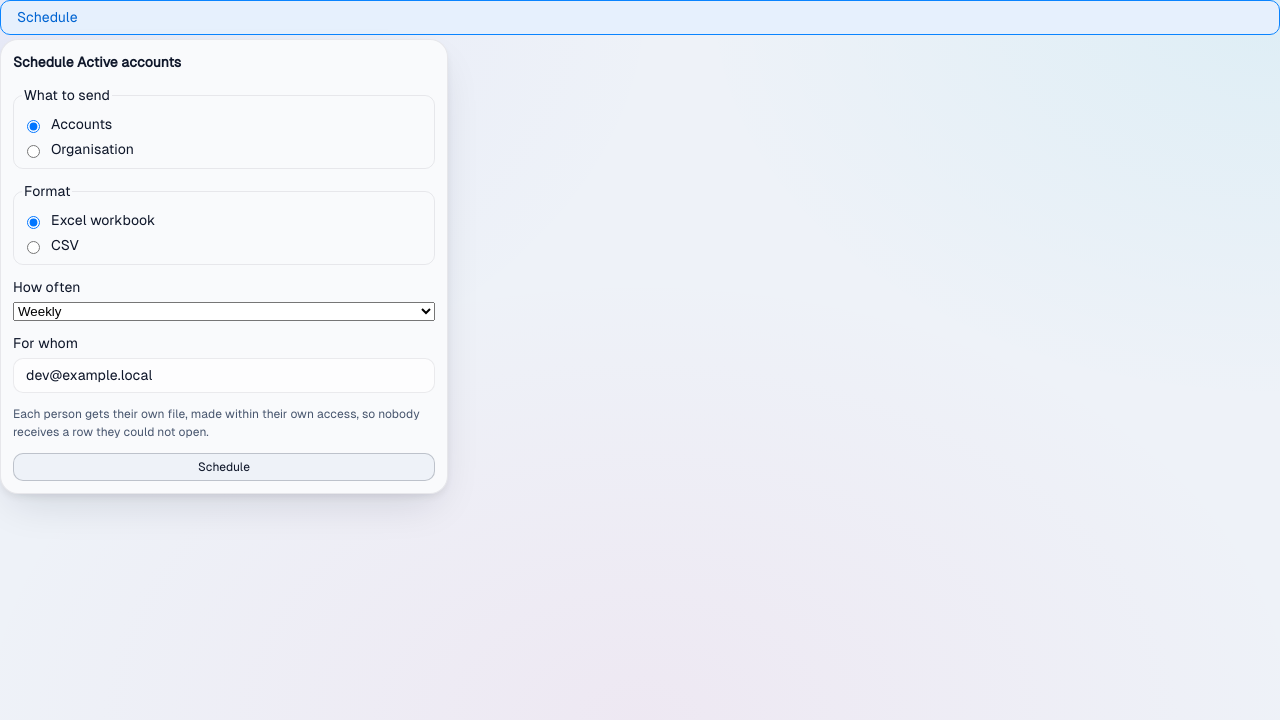
Test: Schedule › schedules the chosen route, format and cadence for the people named
Expected: the field with test id "schedule-view-recipients" holds "dev@example.local", left=13, top=358, right=435, bottom=393
Click the radio button with test id "schedule-view-route" showing "Organisation" at [34, 151], box left=27, top=144, right=40, bottom=158
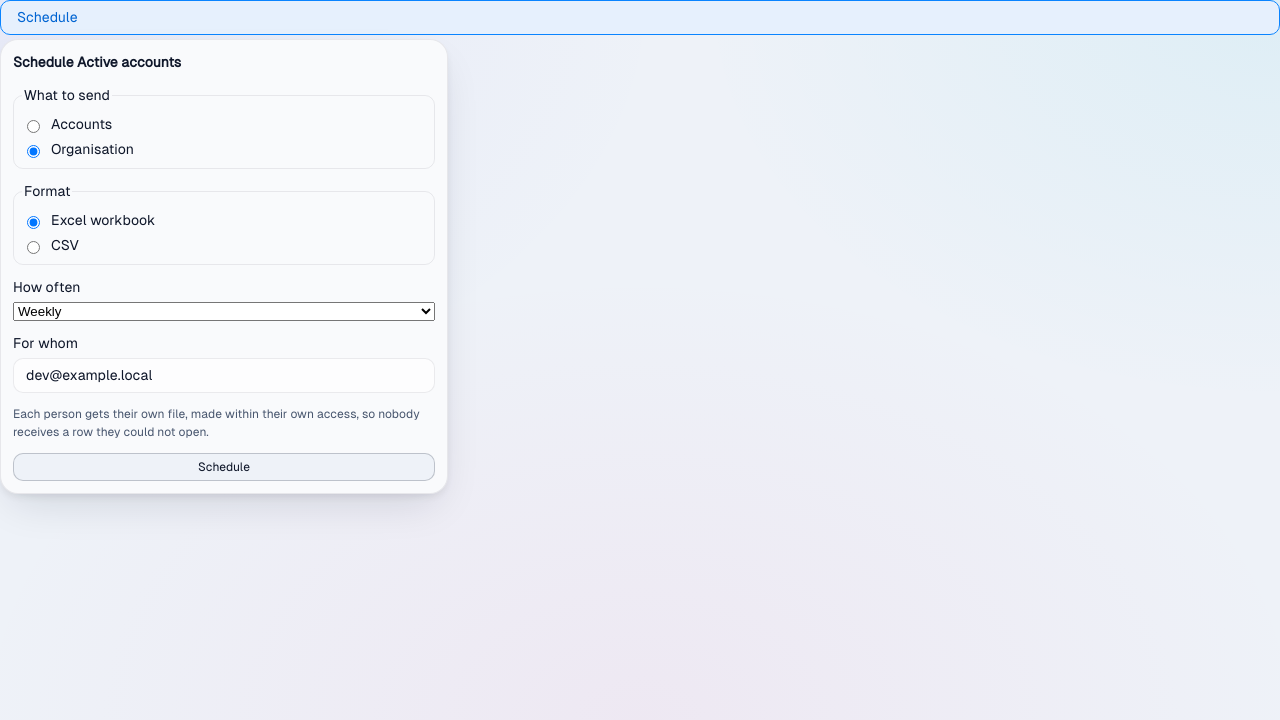
Click the radio button with test id "schedule-view-format-csv" at [34, 247], box left=27, top=240, right=40, bottom=254
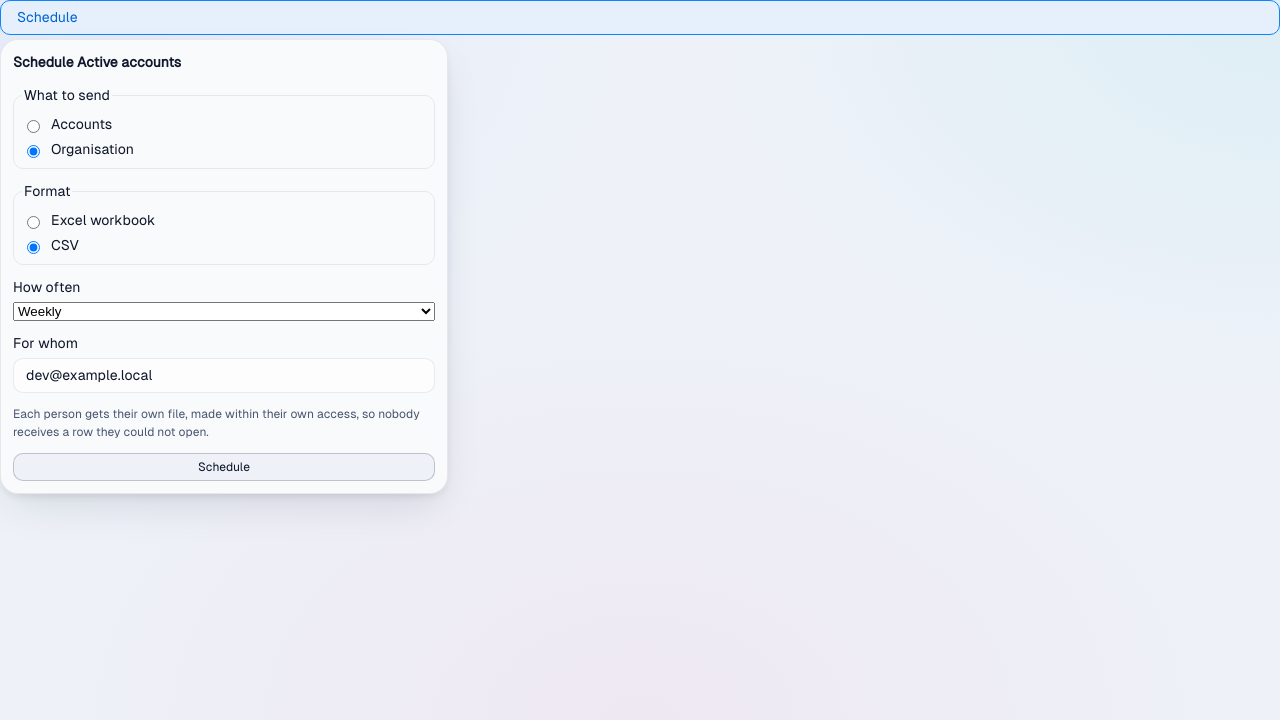
Select "When the month closes" in the dropdown with test id "schedule-view-cadence" at [224, 312], box left=13, top=302, right=435, bottom=321
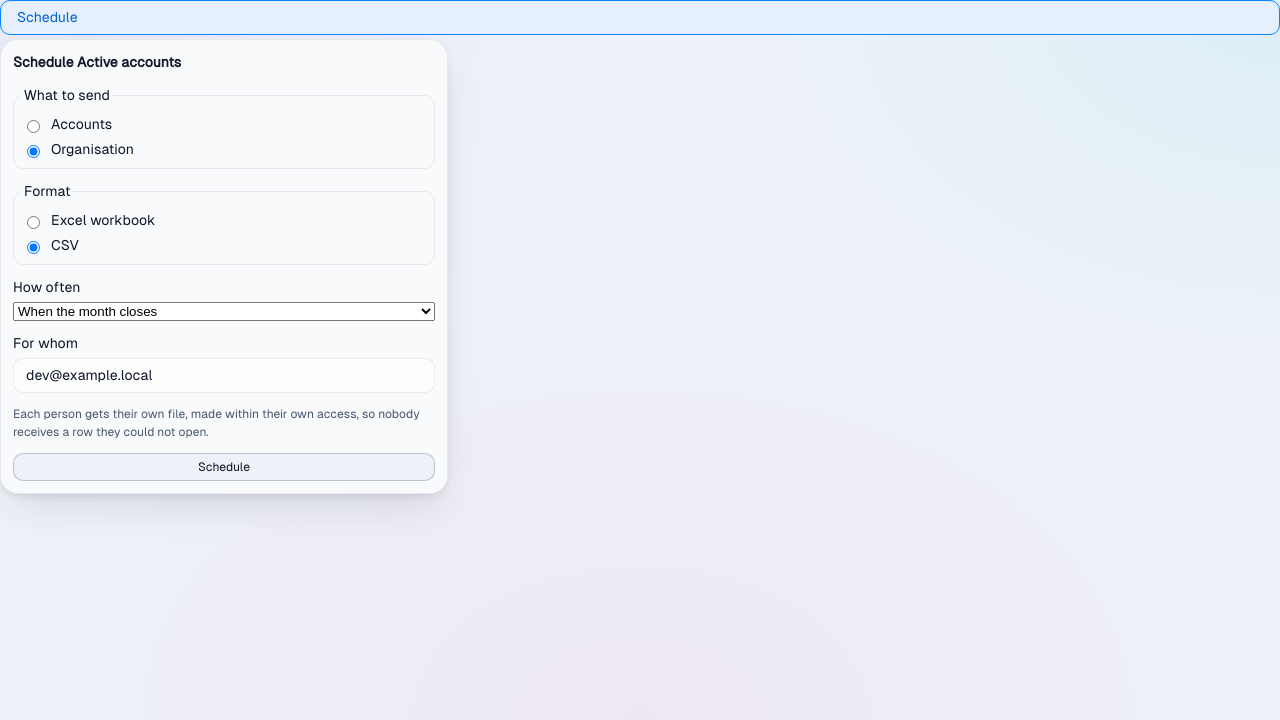
Replace the text in the field with test id "schedule-view-recipients" with "dev@example.local, ops@example.local dev@example.local" at [224, 376], box left=13, top=358, right=435, bottom=393
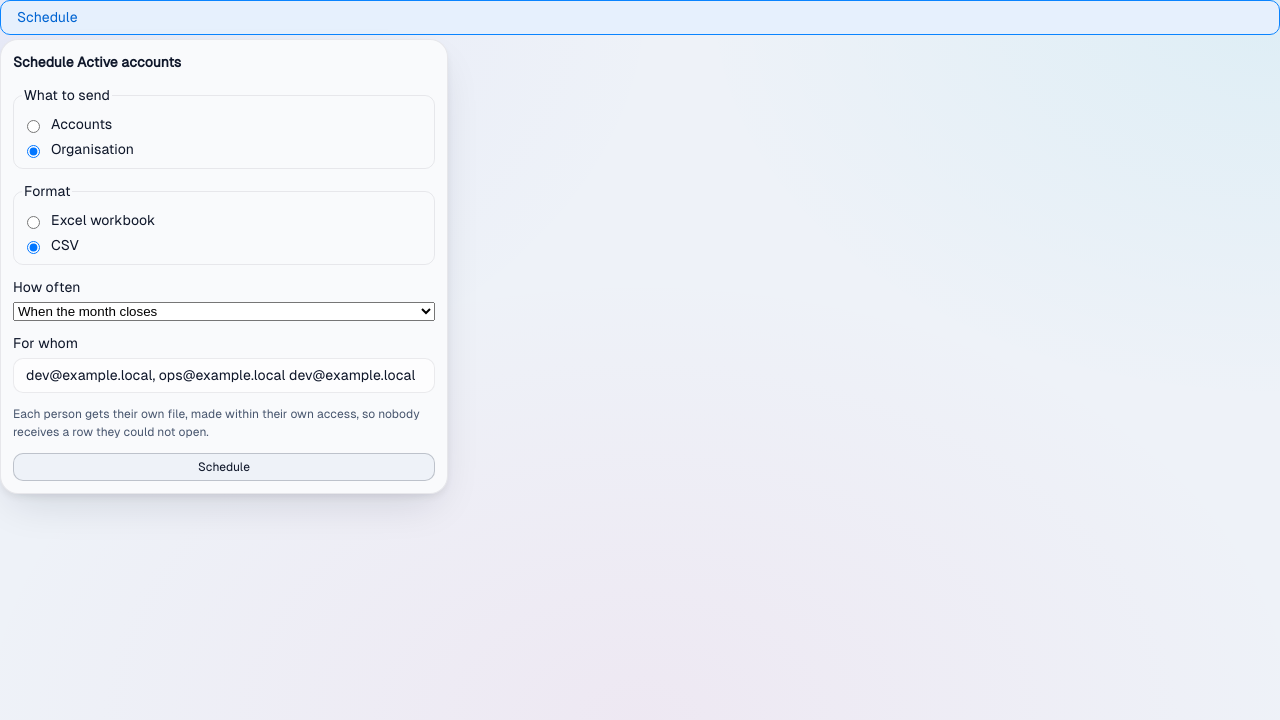
Click the button with test id "schedule-view-submit" at [224, 467], box left=13, top=453, right=435, bottom=481
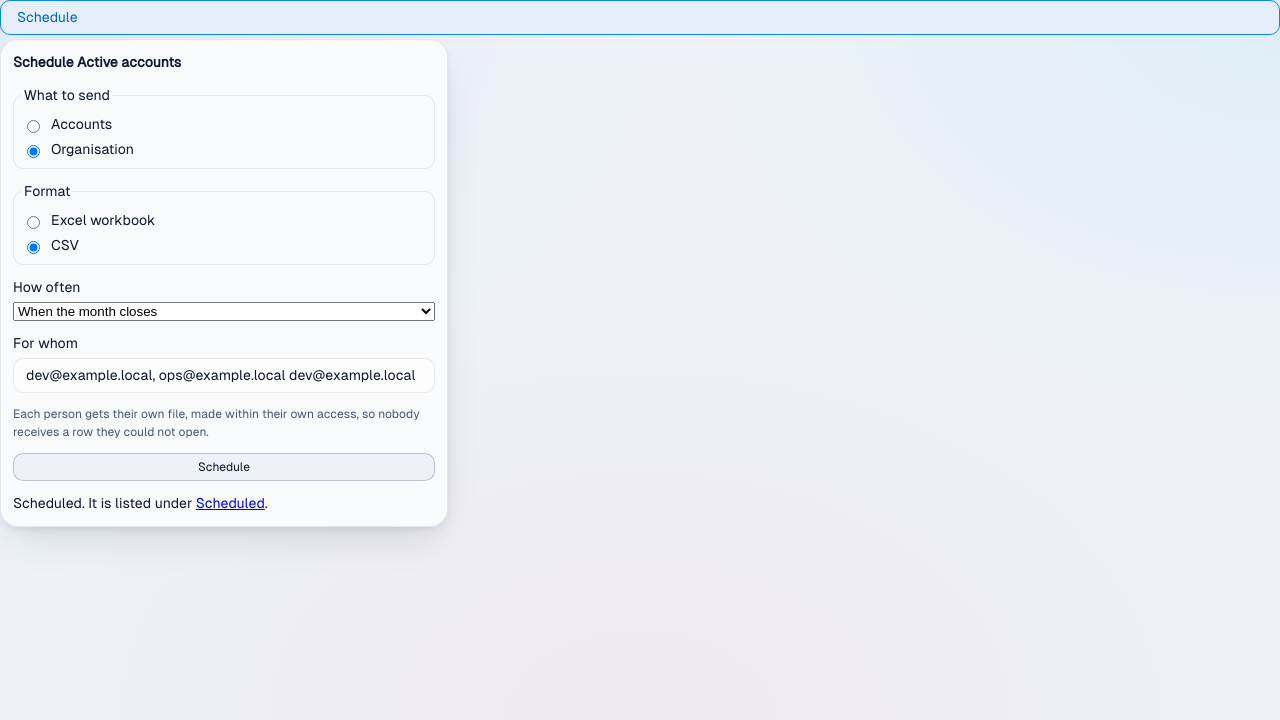
Expected: the message with test id "schedule-view-made" shows "Scheduled.", left=13, top=495, right=196, bottom=511
